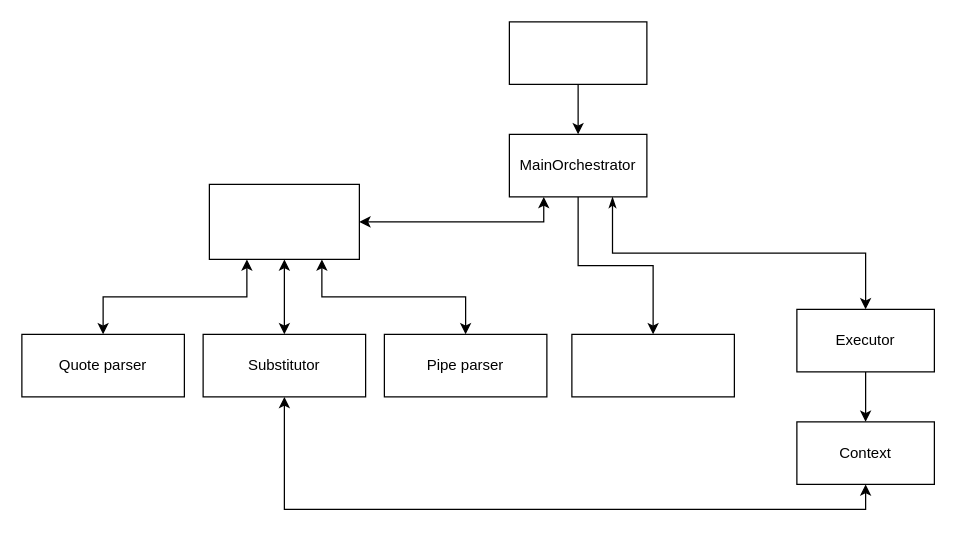
Some shapes in this 956 by 543 pixel diagram are drawn without their labels. The shapes that lost their labels are listed below. From the top down, each one's centre as x and y in pixels, then its label:
At point (577, 52): "REL".
At point (283, 221): "ParserO rchestrator".
At point (652, 365): "Command F actory".
